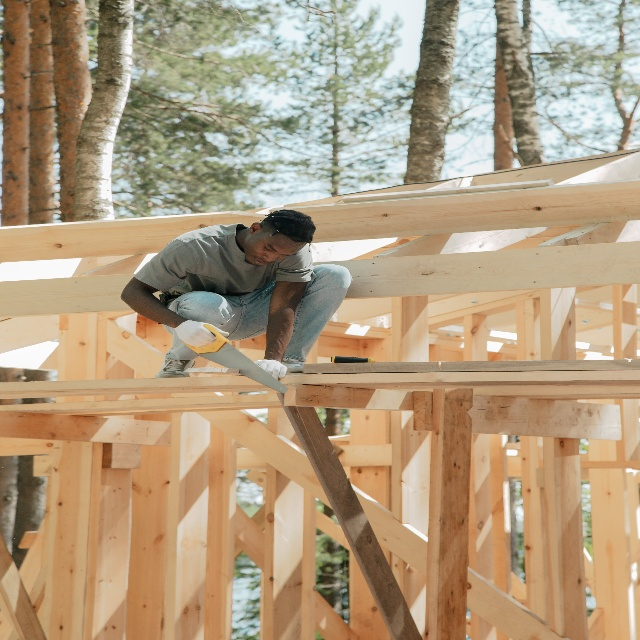Guantes: (174, 319, 229, 347), (253, 358, 287, 380)
